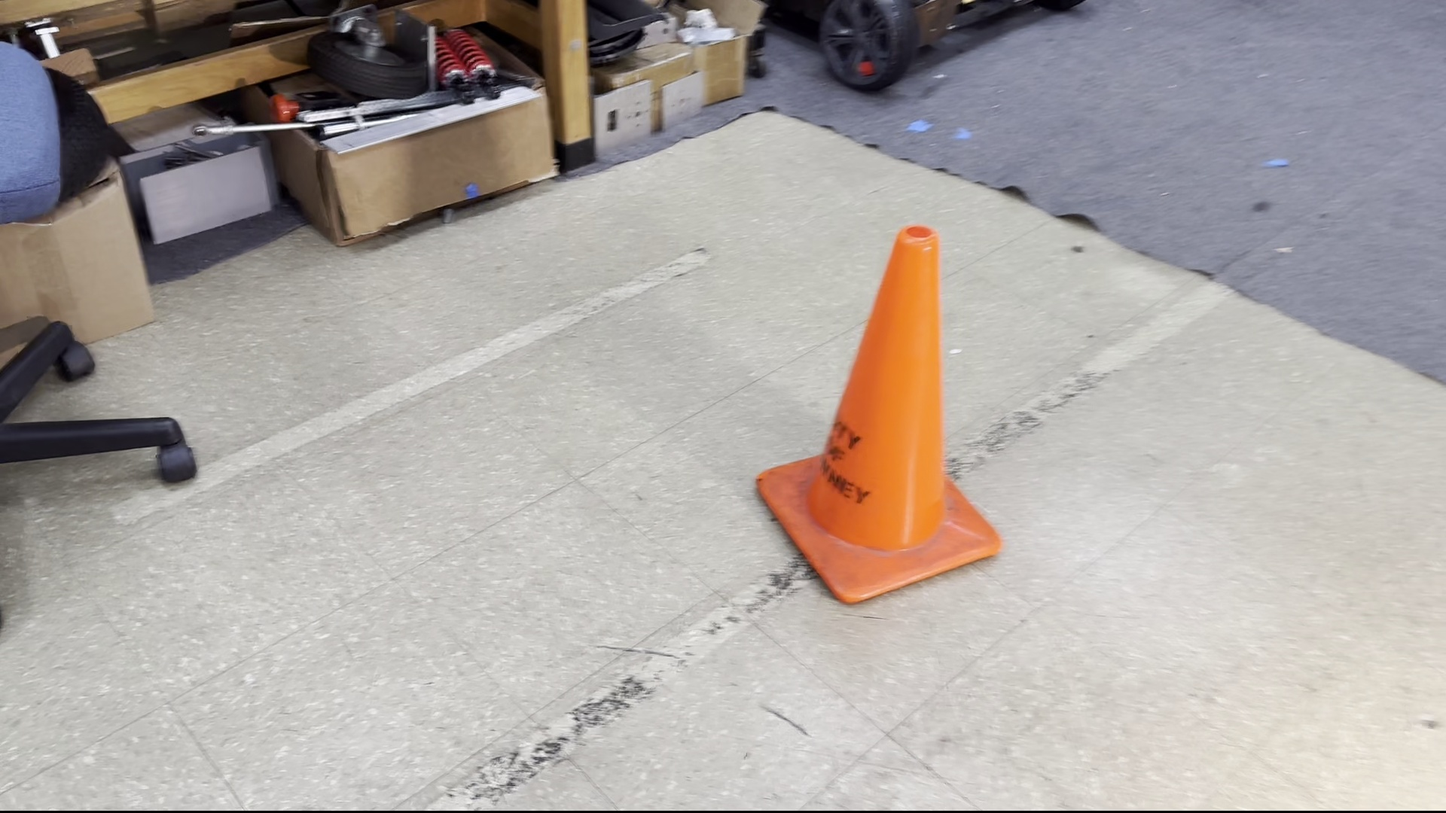traffic_cone: (754, 223, 1003, 606)
